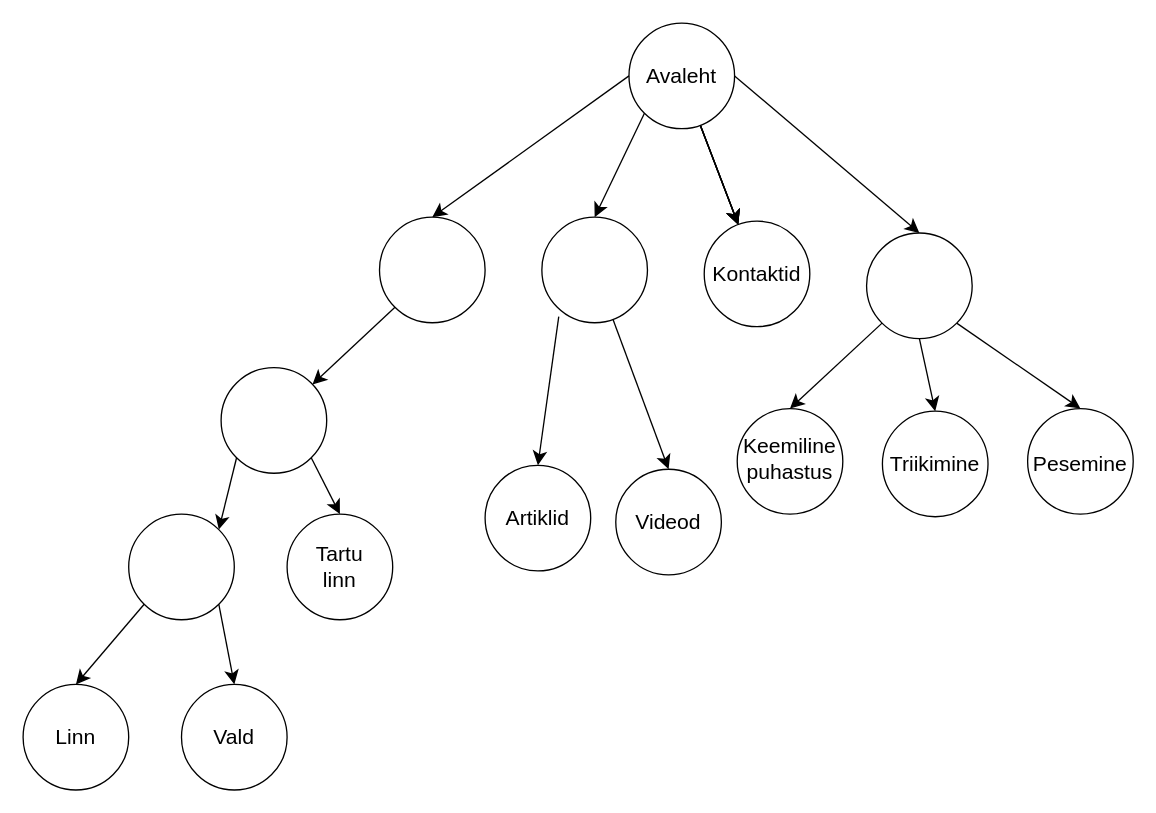
The diagram is 1156 pixels wide and 813 high, and some of its shapes have lost their labels. The shapes that lost their labels are listed below. From the top down, each one's centre as x and y in pixels, then its label:
the point at 431,269: Meist
the point at 594,269: Uudised
the point at 918,285: Hinnad
the point at 273,419: Esindused
the point at 180,566: Võru
